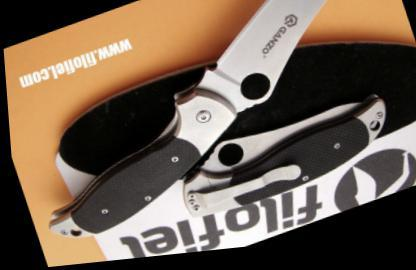knife: (156, 0, 415, 140)
